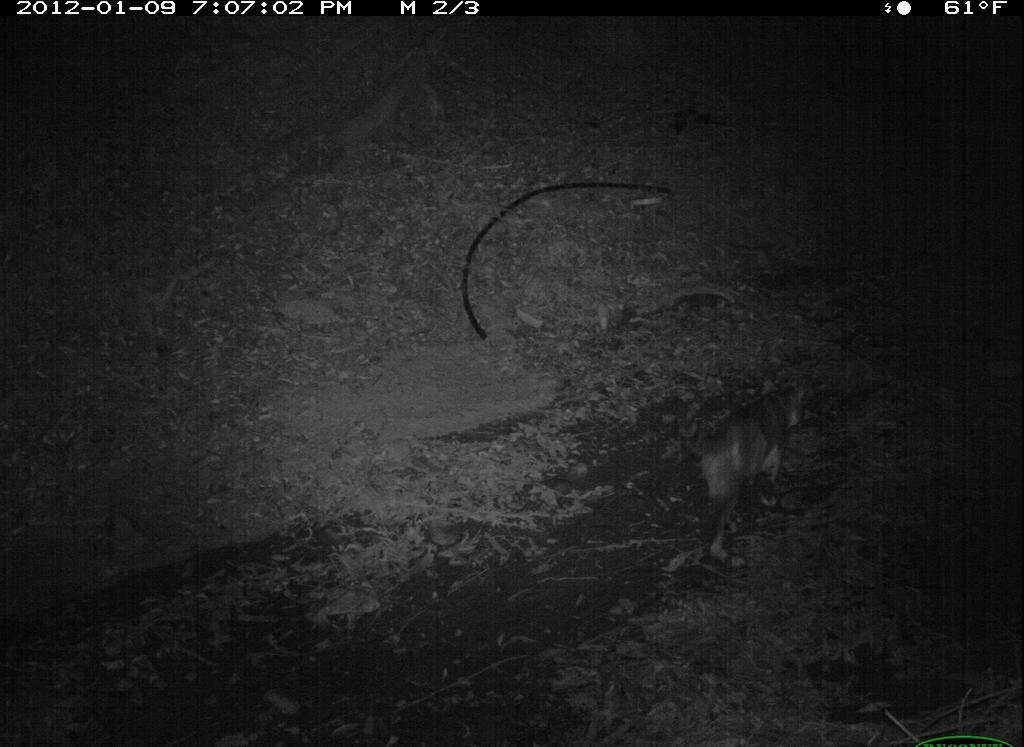cat: (679, 377, 829, 578)
